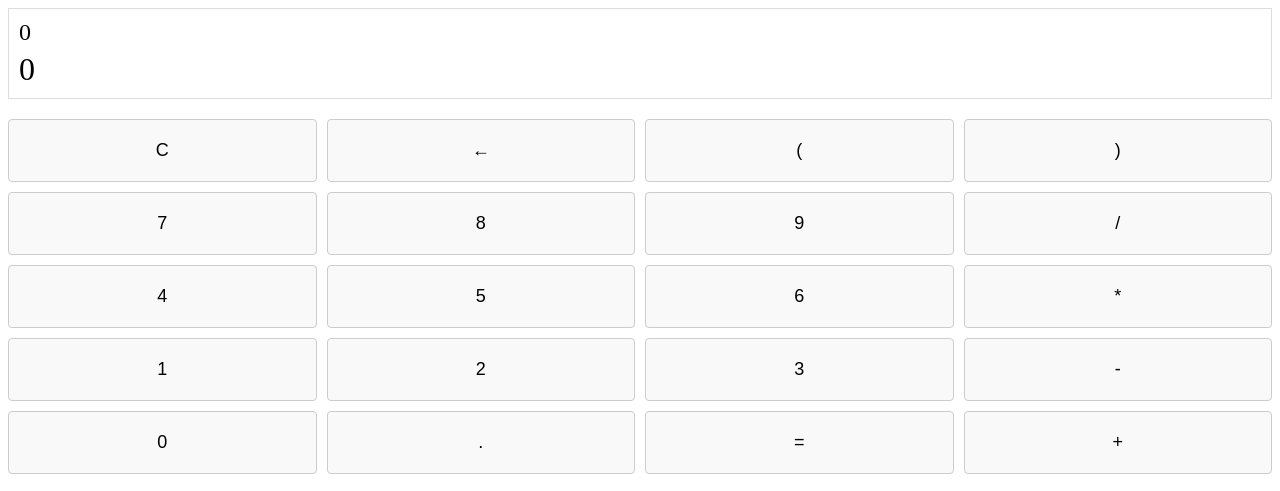
Test case: CalculatorPanel 컴포넌트 › 덧셈 연산이 올바르게 수행된다
The image size is (1280, 491).
Click the button named "숫자 1" at (162, 370), box [8,338,316,401]
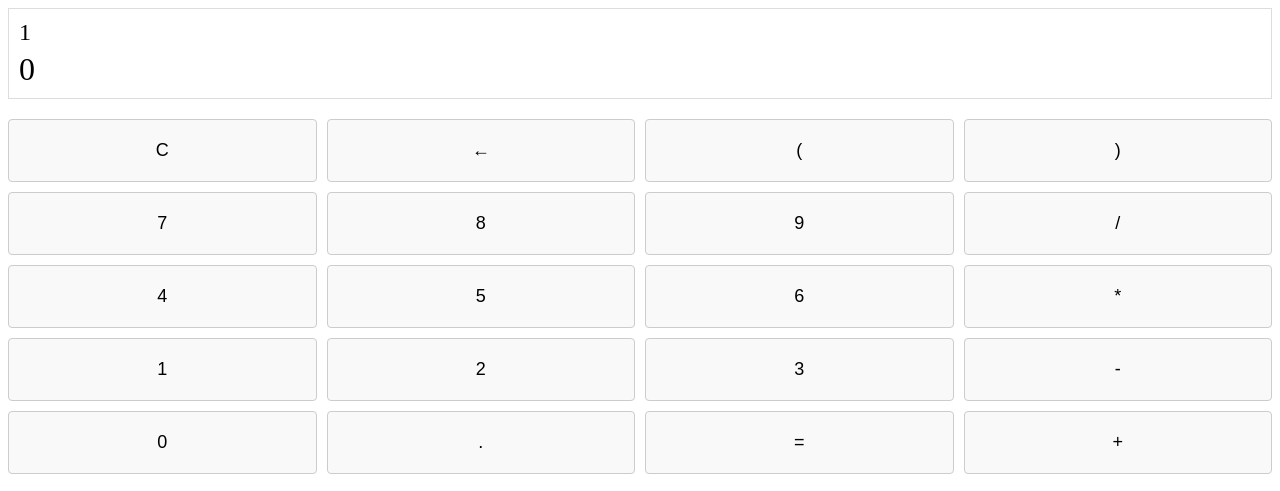
Click the button named "더하기" at (1118, 442), box [964,411,1272,474]
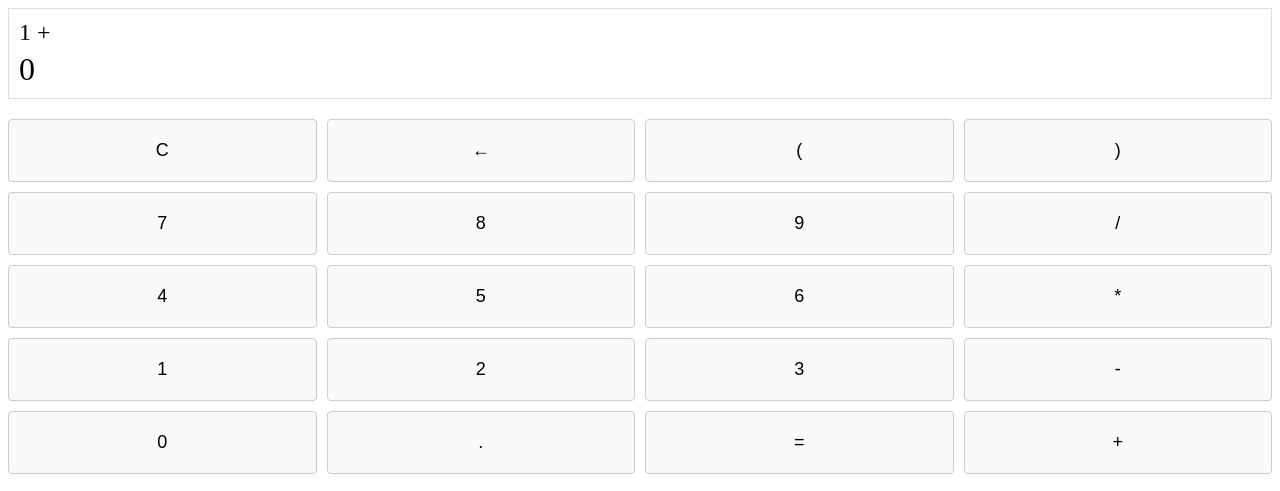
Click the button named "숫자 2" at (481, 370), box [326,338,635,401]
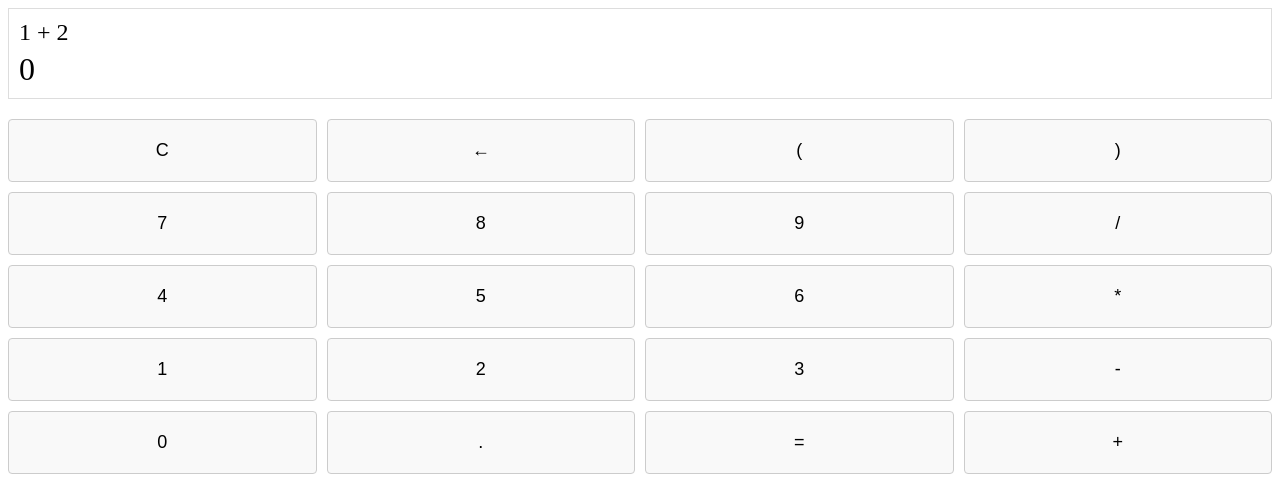
Click the button named "계산하기" at (799, 442), box [645,411,954,474]
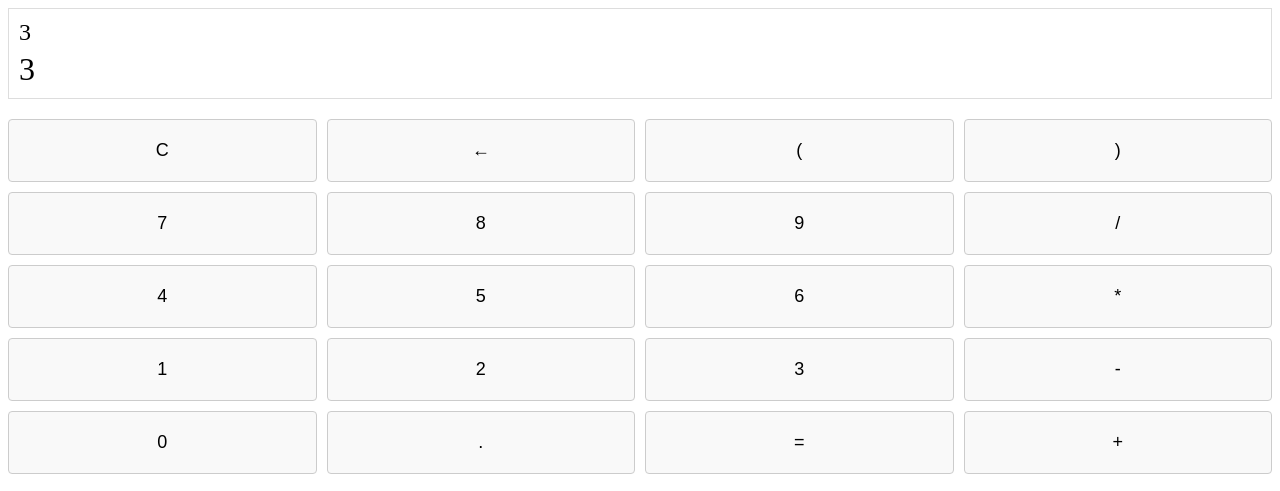
Expected: the message reads "3", [19,51,35,87]
